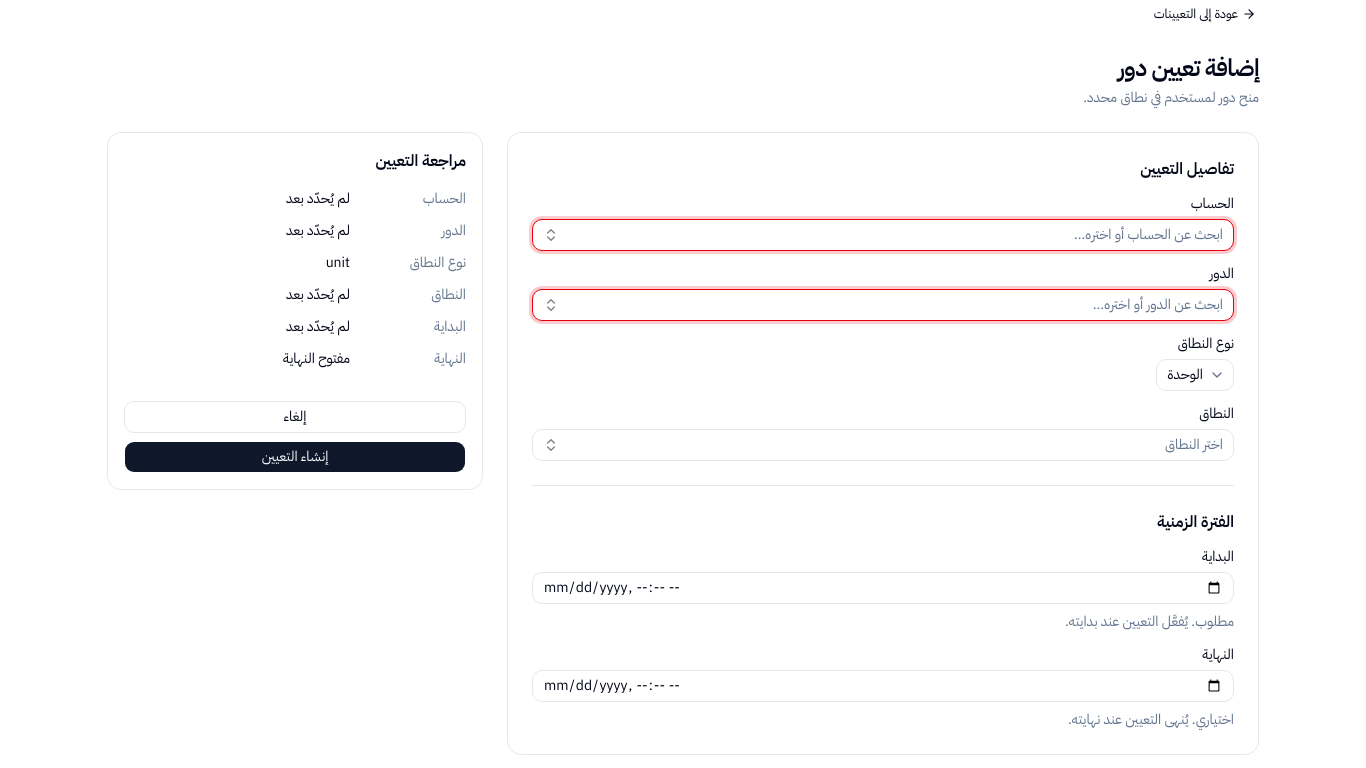
hardened scope target search races › ignores a stale (older) scope-target response that arrives after a newer query
This screenshot has width=1366, height=768.
Click the button "اختر النطاق" at (1194, 444), box left=532, top=429, right=1234, bottom=461
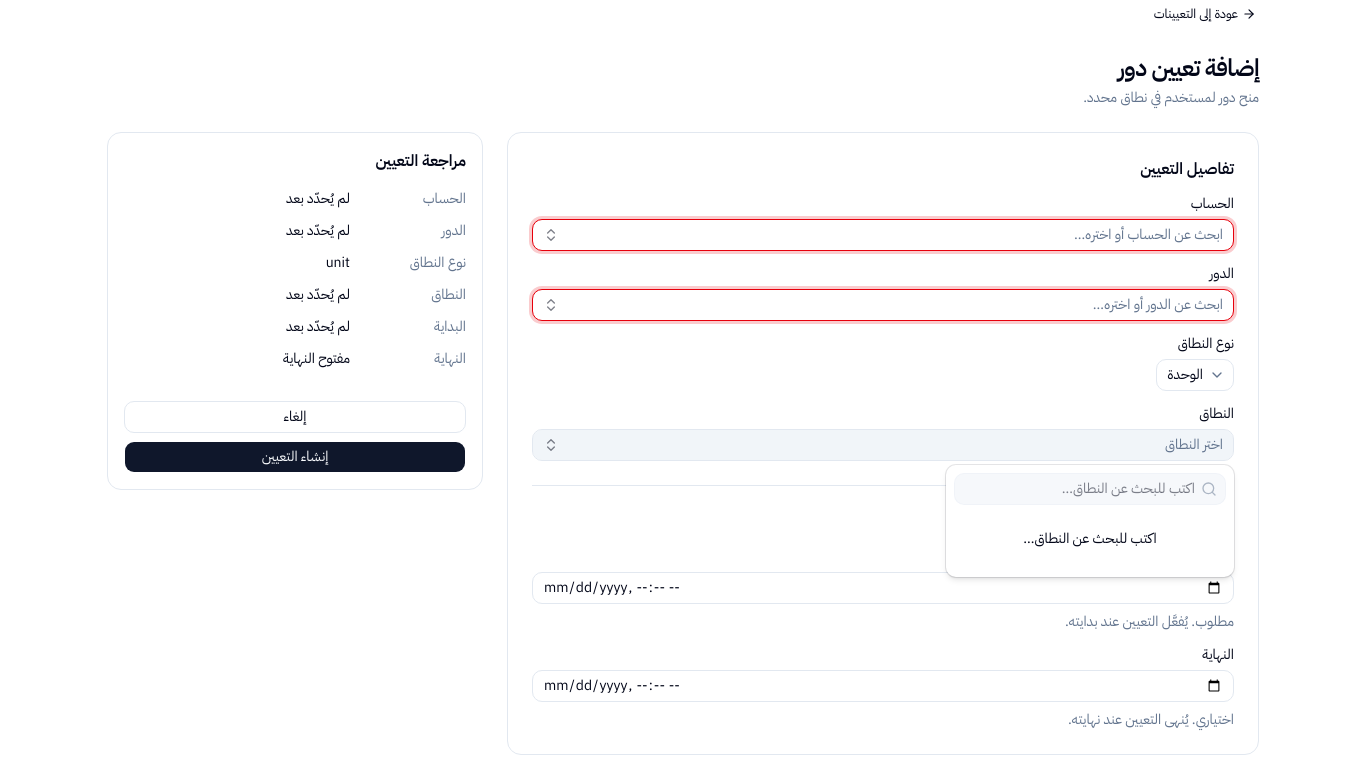
Note: Trigger the slow (stale) query first.
Type "قديم" into the dropdown named "ابحث عن النطاق" at (1078, 489), box left=955, top=479, right=1201, bottom=499
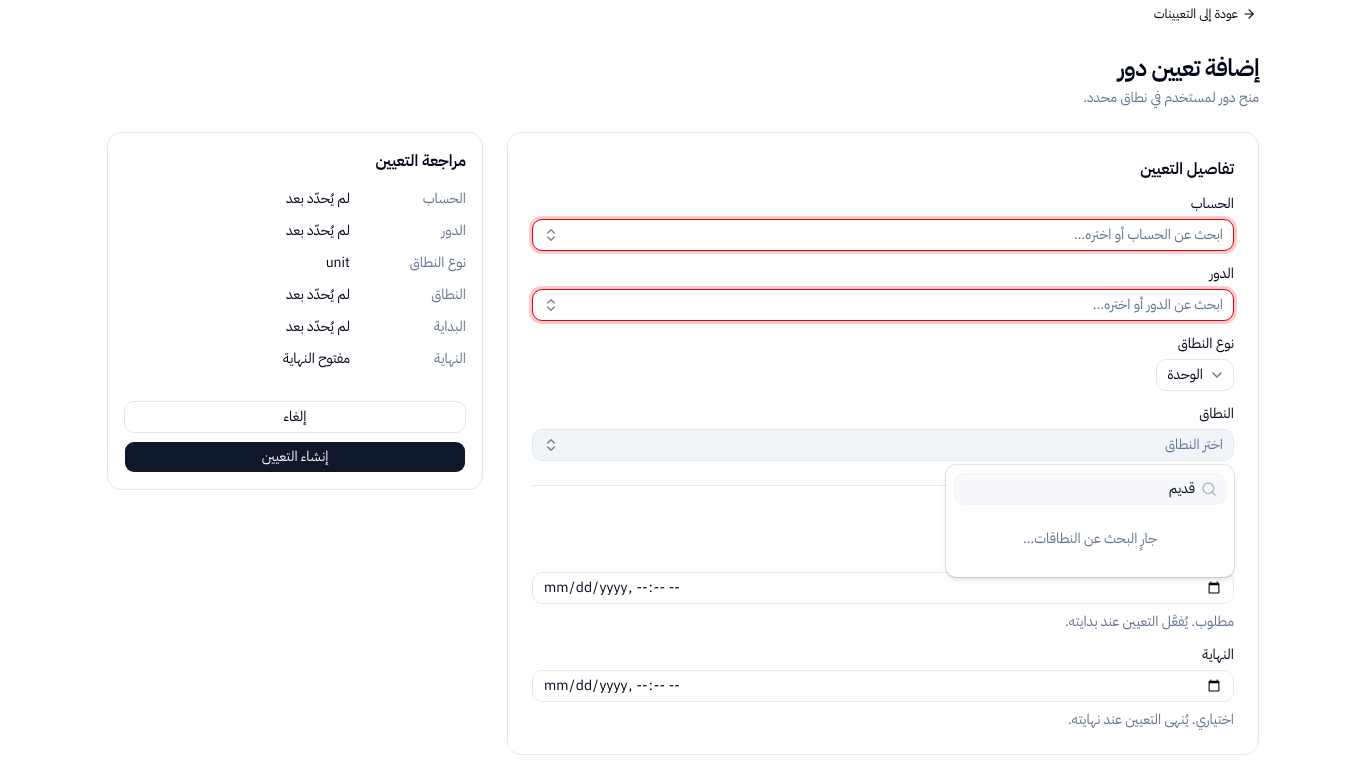
Replace the text in the dropdown named "ابحث عن النطاق" with "جديد" at (1078, 489), box left=955, top=479, right=1201, bottom=499
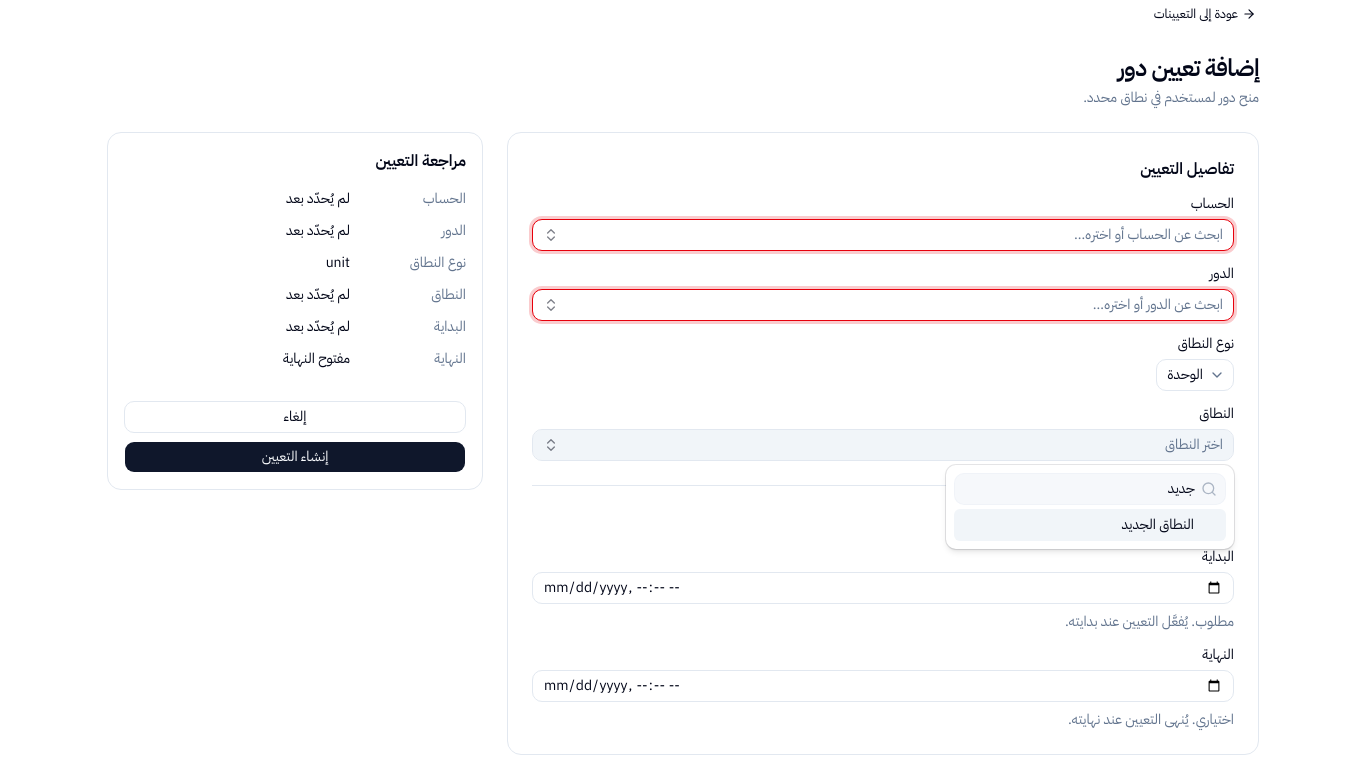
Result: the text "النطاق الجديد" is shown at left=1121, top=515, right=1194, bottom=535
